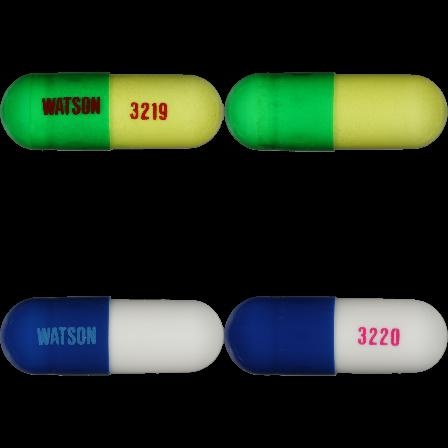0591-3219: (0, 0, 224, 224)
